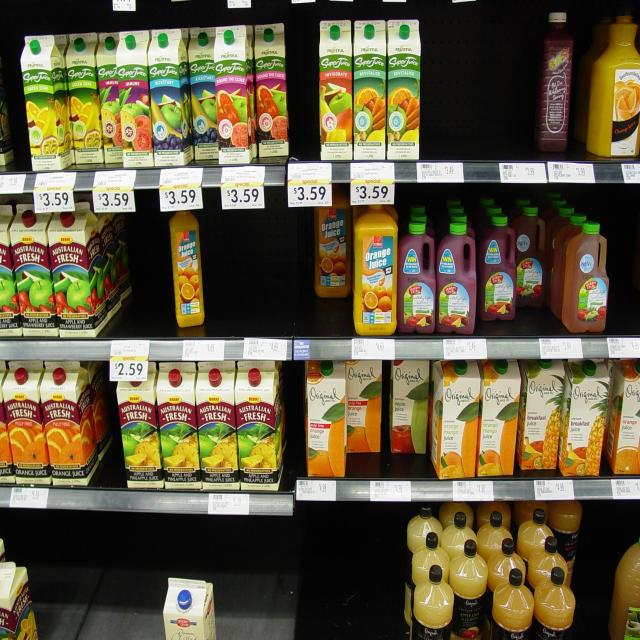void: (422, 14, 539, 160), (33, 522, 162, 640), (197, 214, 315, 330), (294, 512, 404, 636), (220, 532, 290, 640), (120, 233, 172, 330), (286, 33, 321, 155), (161, 531, 214, 577)
